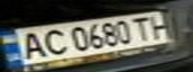0: (66, 24, 90, 52), (115, 17, 136, 45)
6: (87, 21, 106, 50)
8: (100, 19, 121, 47)
A: (15, 29, 51, 61)
C: (36, 26, 69, 56)
H: (145, 11, 175, 39)
T: (130, 15, 157, 42)
